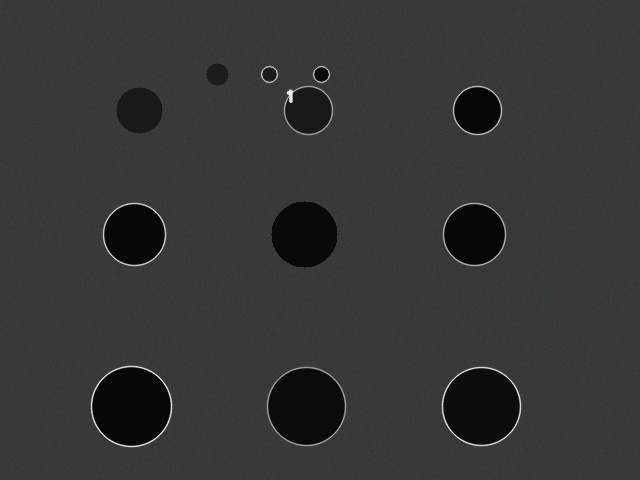hole: (91, 366, 171, 446), (267, 367, 345, 445), (442, 367, 520, 445), (271, 201, 337, 267), (103, 203, 165, 265), (443, 203, 505, 265), (284, 86, 332, 134), (453, 86, 501, 134), (116, 87, 162, 133), (206, 63, 228, 85), (261, 66, 277, 82), (313, 66, 329, 82)
